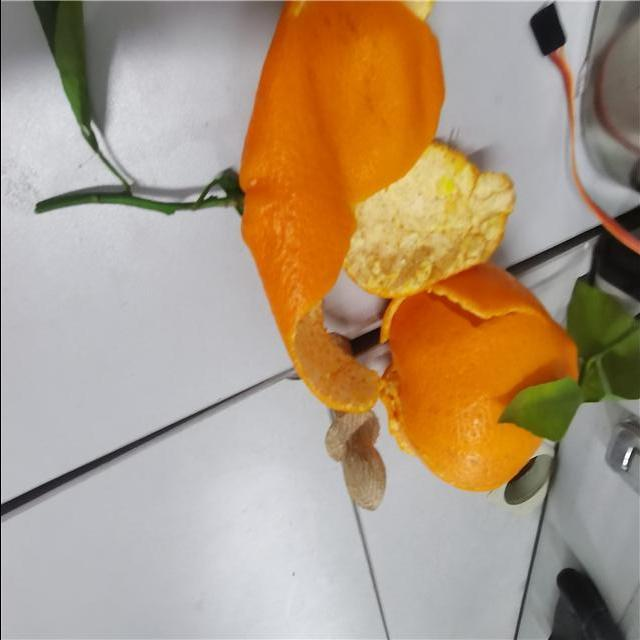orange peel: (237, 3, 514, 413), (364, 274, 624, 531)
